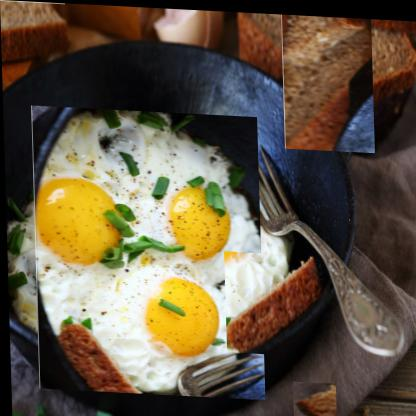bread: (259, 11, 397, 129), (223, 249, 319, 354), (0, 0, 67, 66), (287, 379, 339, 415)
egg: (17, 119, 278, 385)
